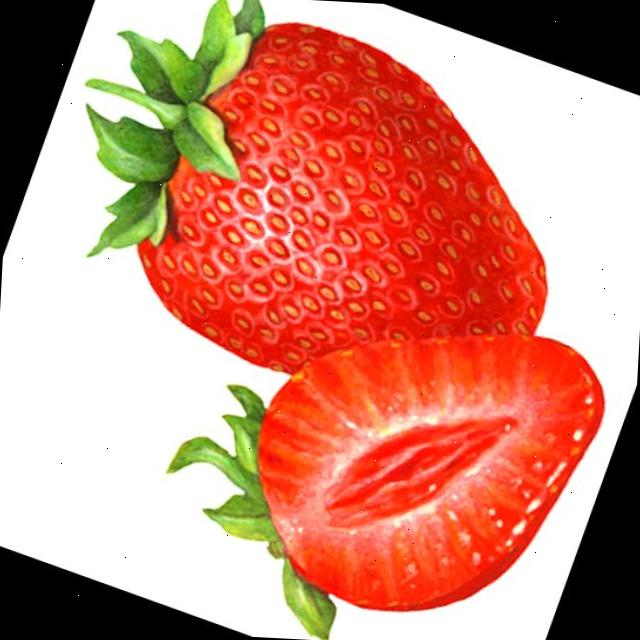strawberry: (87, 0, 545, 372), (169, 334, 603, 640)
